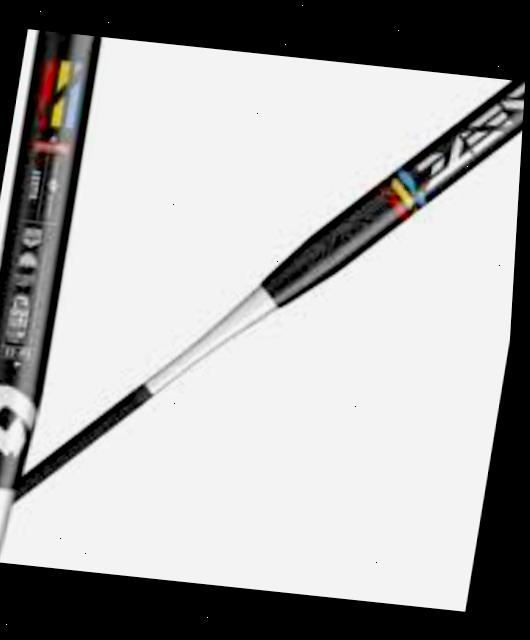baseball bat: (0, 81, 526, 545), (0, 30, 101, 563)
